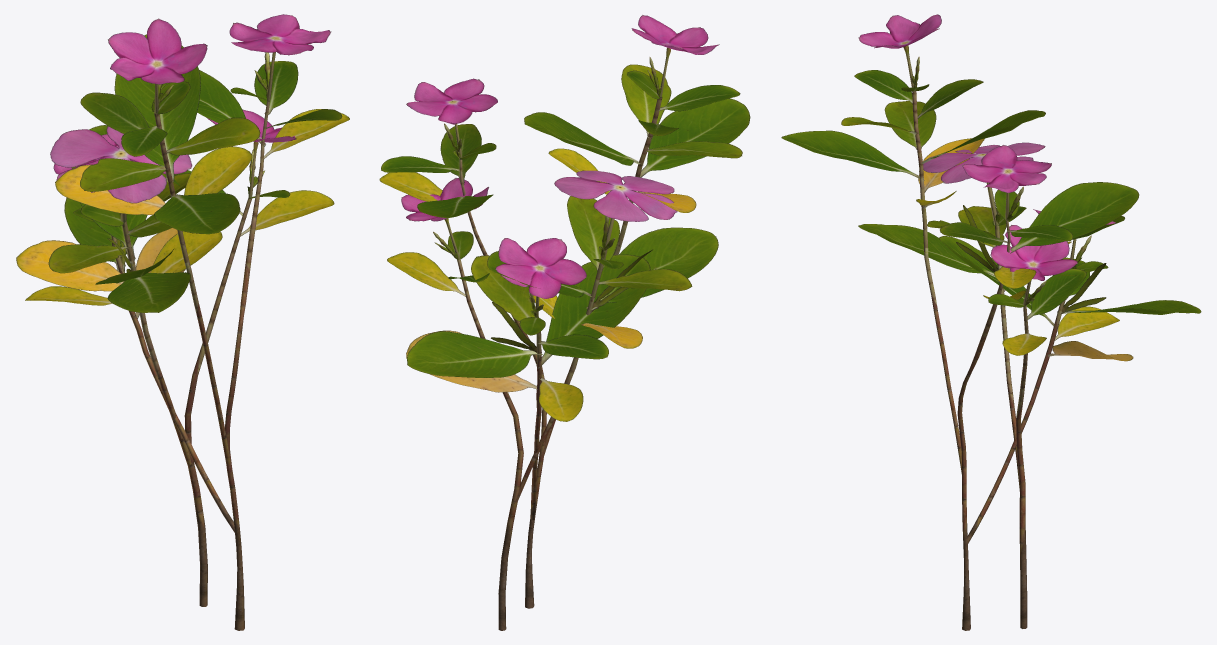
File: periwinkle.glb
3 views of the same model, side by side, from view 1: azimuth 30°, elevation 25°; view 2: azimuth 150°, elevation 25°; view 3: azimuth 270°, elevation 25° (orthographic). The views are drawn at different scales.
Visible parts, largest first — view 1: periwinkle_flower_clump, periwinkle_trailing_sprig; view 2: periwinkle_flower_clump, periwinkle_trailing_sprig; view 3: periwinkle_flower_clump, periwinkle_trailing_sprig.
Boxes of the visible parts, left/top/right/bottom form: periwinkle_flower_clump: left=25, top=14, right=349, bottom=630; periwinkle_trailing_sprig: left=16, top=109, right=334, bottom=606; periwinkle_flower_clump: left=379, top=15, right=750, bottom=608; periwinkle_trailing_sprig: left=387, top=170, right=718, bottom=630; periwinkle_flower_clump: left=781, top=14, right=1201, bottom=630; periwinkle_trailing_sprig: left=858, top=142, right=1124, bottom=628.
Bounding box in the file's own units: 0.1111 × 0.2058 × 0.1409.
1 material, 1 textured.
